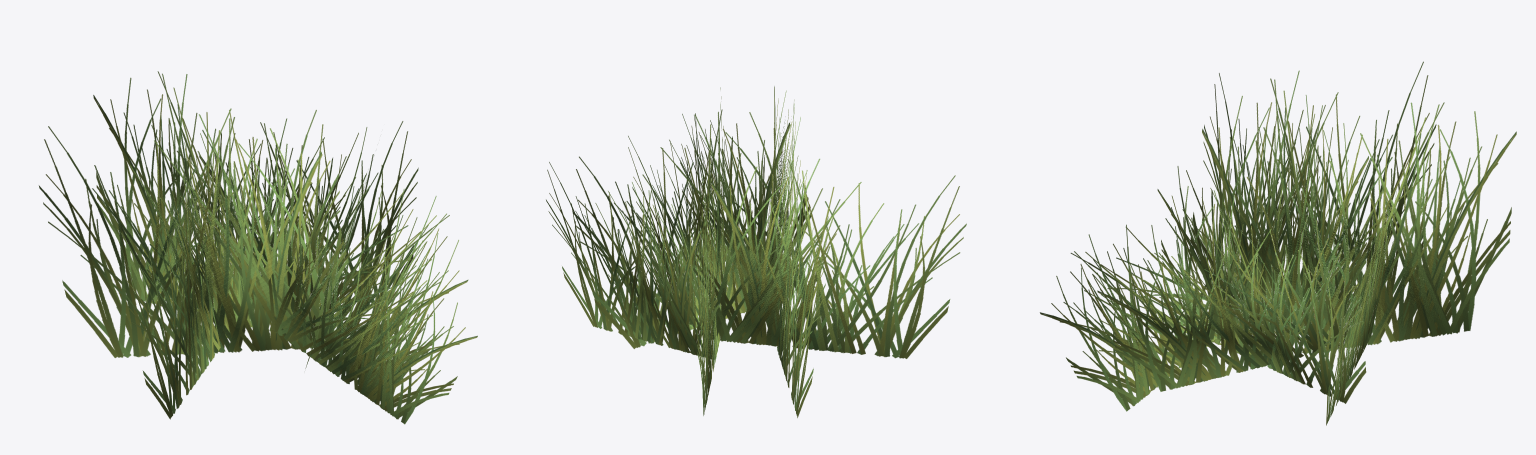
File: veg_grass_tuft_a.glb
3 views of the same model, side by side, from view 1: azimuth 30°, elevation 25°; view 2: azimuth 150°, elevation 25°; view 3: azimuth 270°, elevation 25° (orthographic). The views are drawn at different scales.
Parts seen in each view (by area): view 1: Leaves; view 2: Leaves; view 3: Leaves.
Boxes of the visible parts, box(x1,y1,x2,y2) form: Leaves: box(39, 71, 477, 424); Leaves: box(546, 86, 966, 417); Leaves: box(1040, 61, 1516, 425).
Bounding box in the file's own units: 5.33 × 4.53 × 5.92.
Materials: 1 (1 with a texture image).
